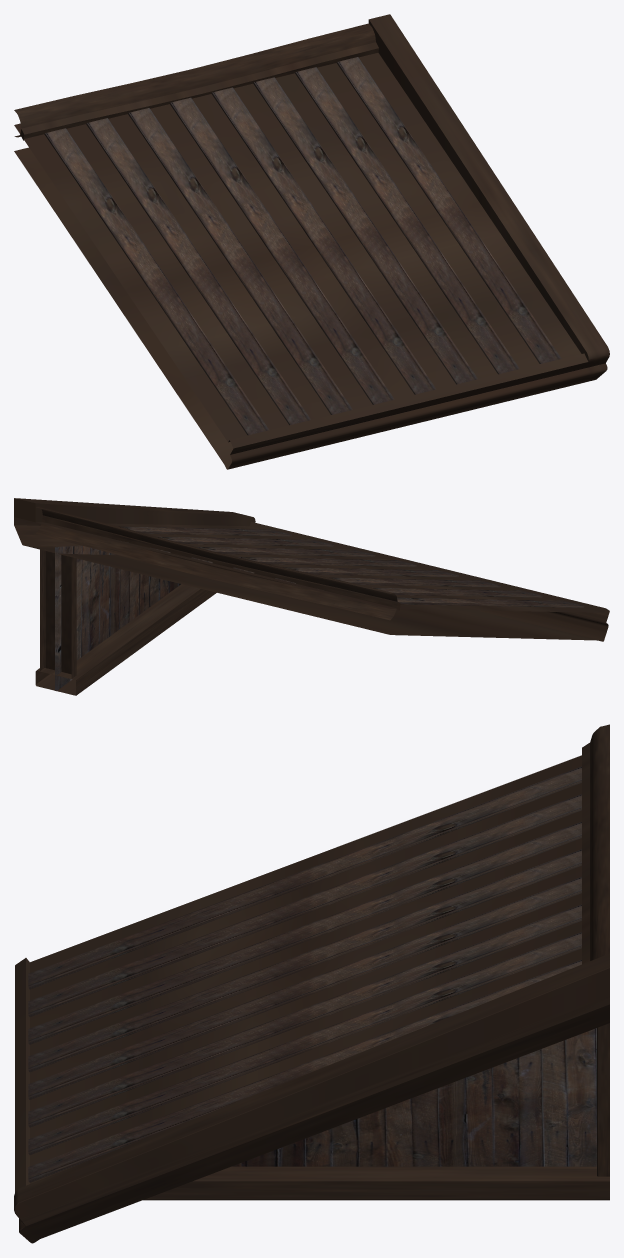
File: OutdoorArchitecture_Roof02_Planks01_BShortt.fbx
3 renders of one model, top to bottom at view 1: azimuth 30°, elevation 25°; view 2: azimuth 150°, elevation 25°; view 3: azimuth 270°, elevation 25°, orthographic. The views are drawn at different scales.
Parts seen in each view (by area): view 1: OutdoorArchitecture_Roof02_Planks01_BShortt; view 2: OutdoorArchitecture_Roof02_Planks01_BShortt; view 3: OutdoorArchitecture_Roof02_Planks01_BShortt.
Boxes of the visible parts, left/top/right/bottom form: OutdoorArchitecture_Roof02_Planks01_BShortt: left=14, top=14, right=609, bottom=469; OutdoorArchitecture_Roof02_Planks01_BShortt: left=14, top=498, right=609, bottom=695; OutdoorArchitecture_Roof02_Planks01_BShortt: left=14, top=724, right=609, bottom=1243.
Bounding box in the file's own units: 337 × 178 × 342.
